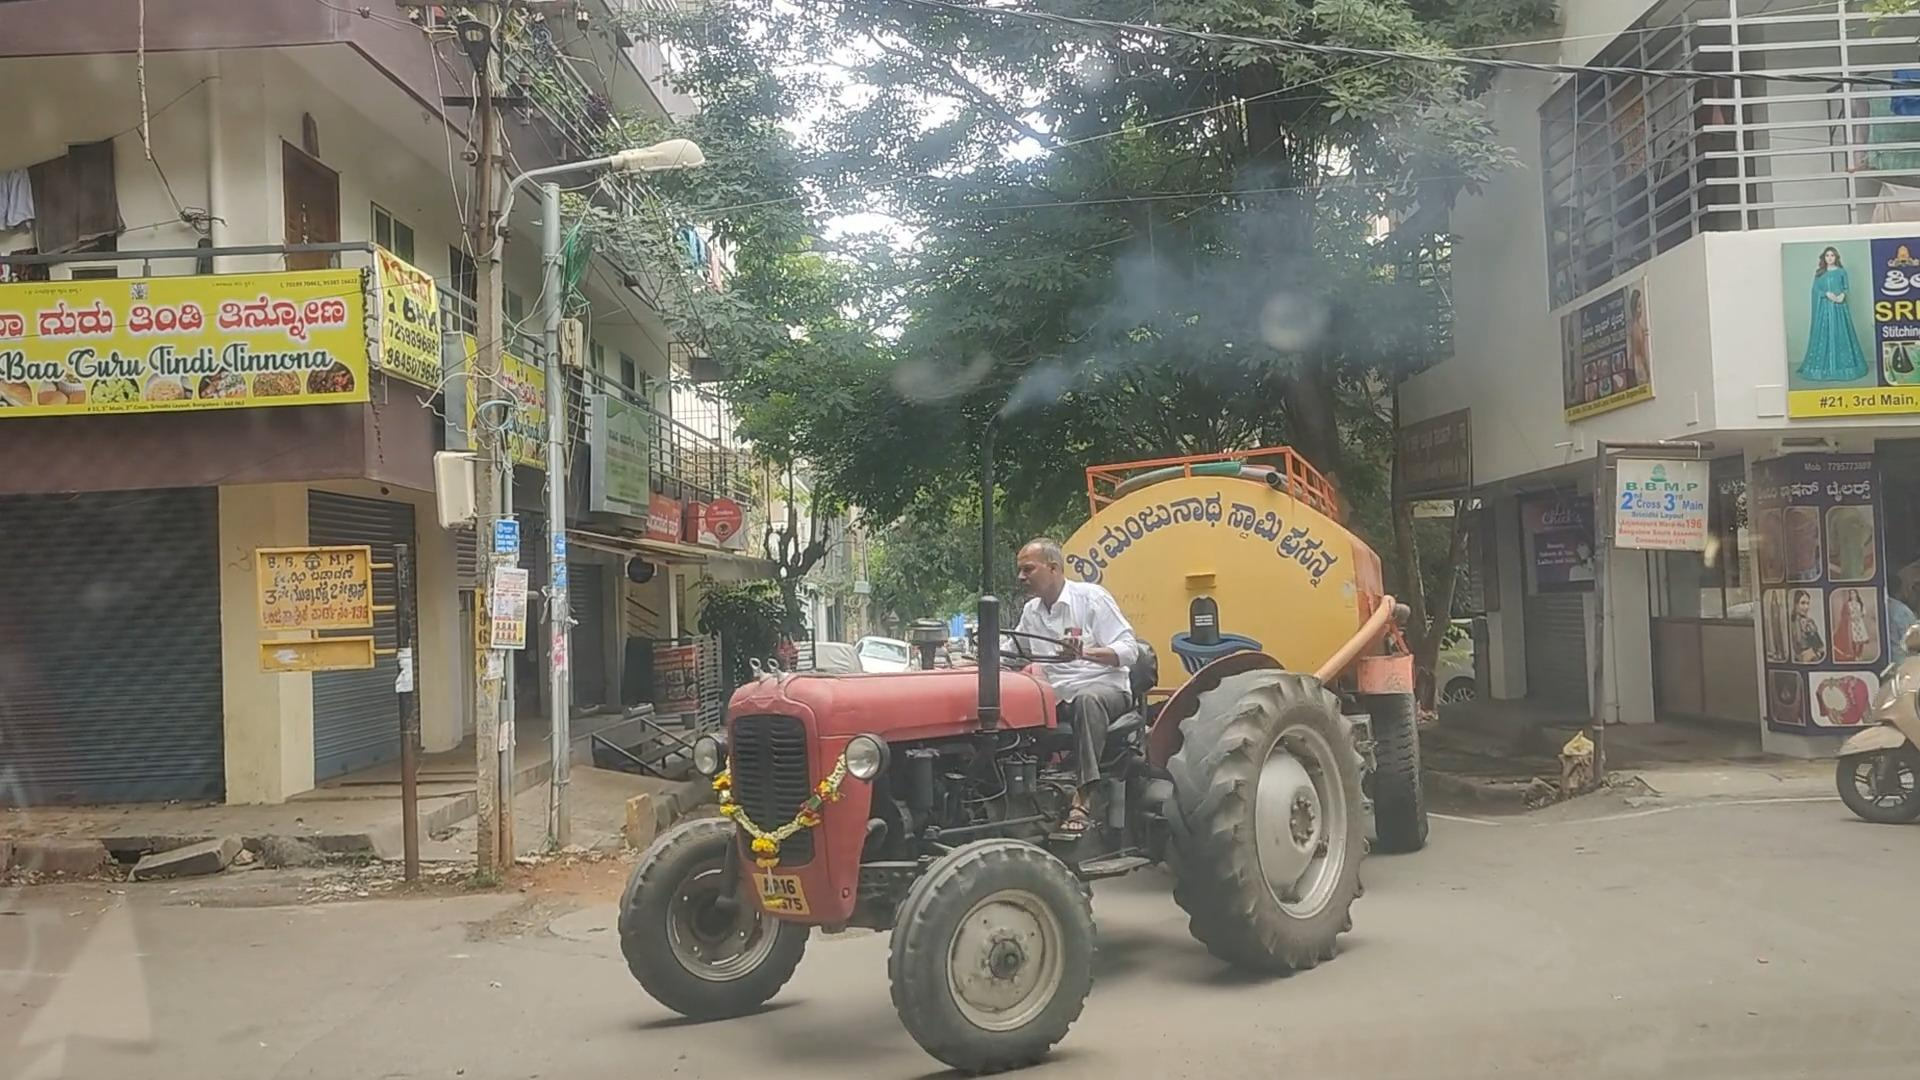HMV: (604, 414, 1473, 1080)
